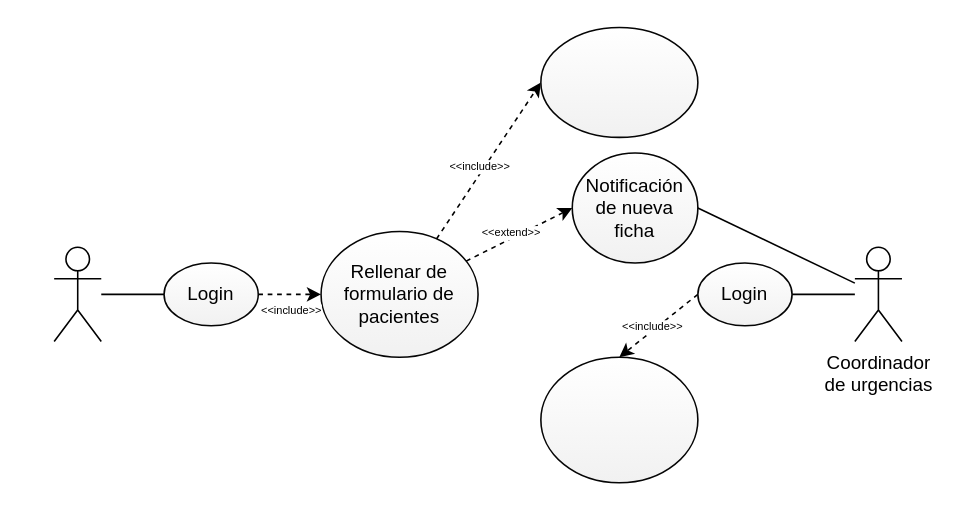
Image size: 959x510. Some labels were removed from this diagram. The centre of each missing label's shape, as x and y in pixels:
Enviar formulario a la base de datos: pixel 618 81
Paramedico: pixel 77 293
Ver listado de fichas mas recientes: pixel 618 419
